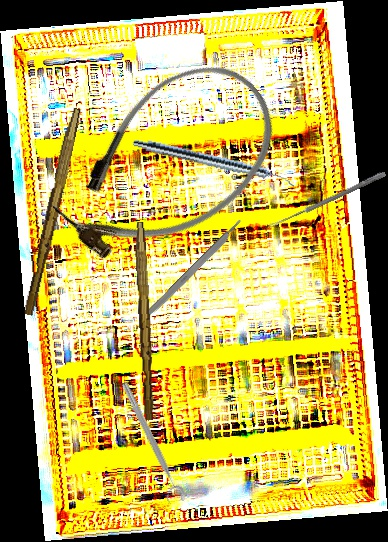Cannula: (32, 38, 303, 291)
Fixation Ring: (111, 379, 189, 508)
Handpiece: (130, 136, 298, 189)
Scalpel Handle: (22, 106, 82, 317), (137, 217, 247, 326), (130, 221, 158, 421)
Surgical Spoon: (268, 170, 387, 230)
